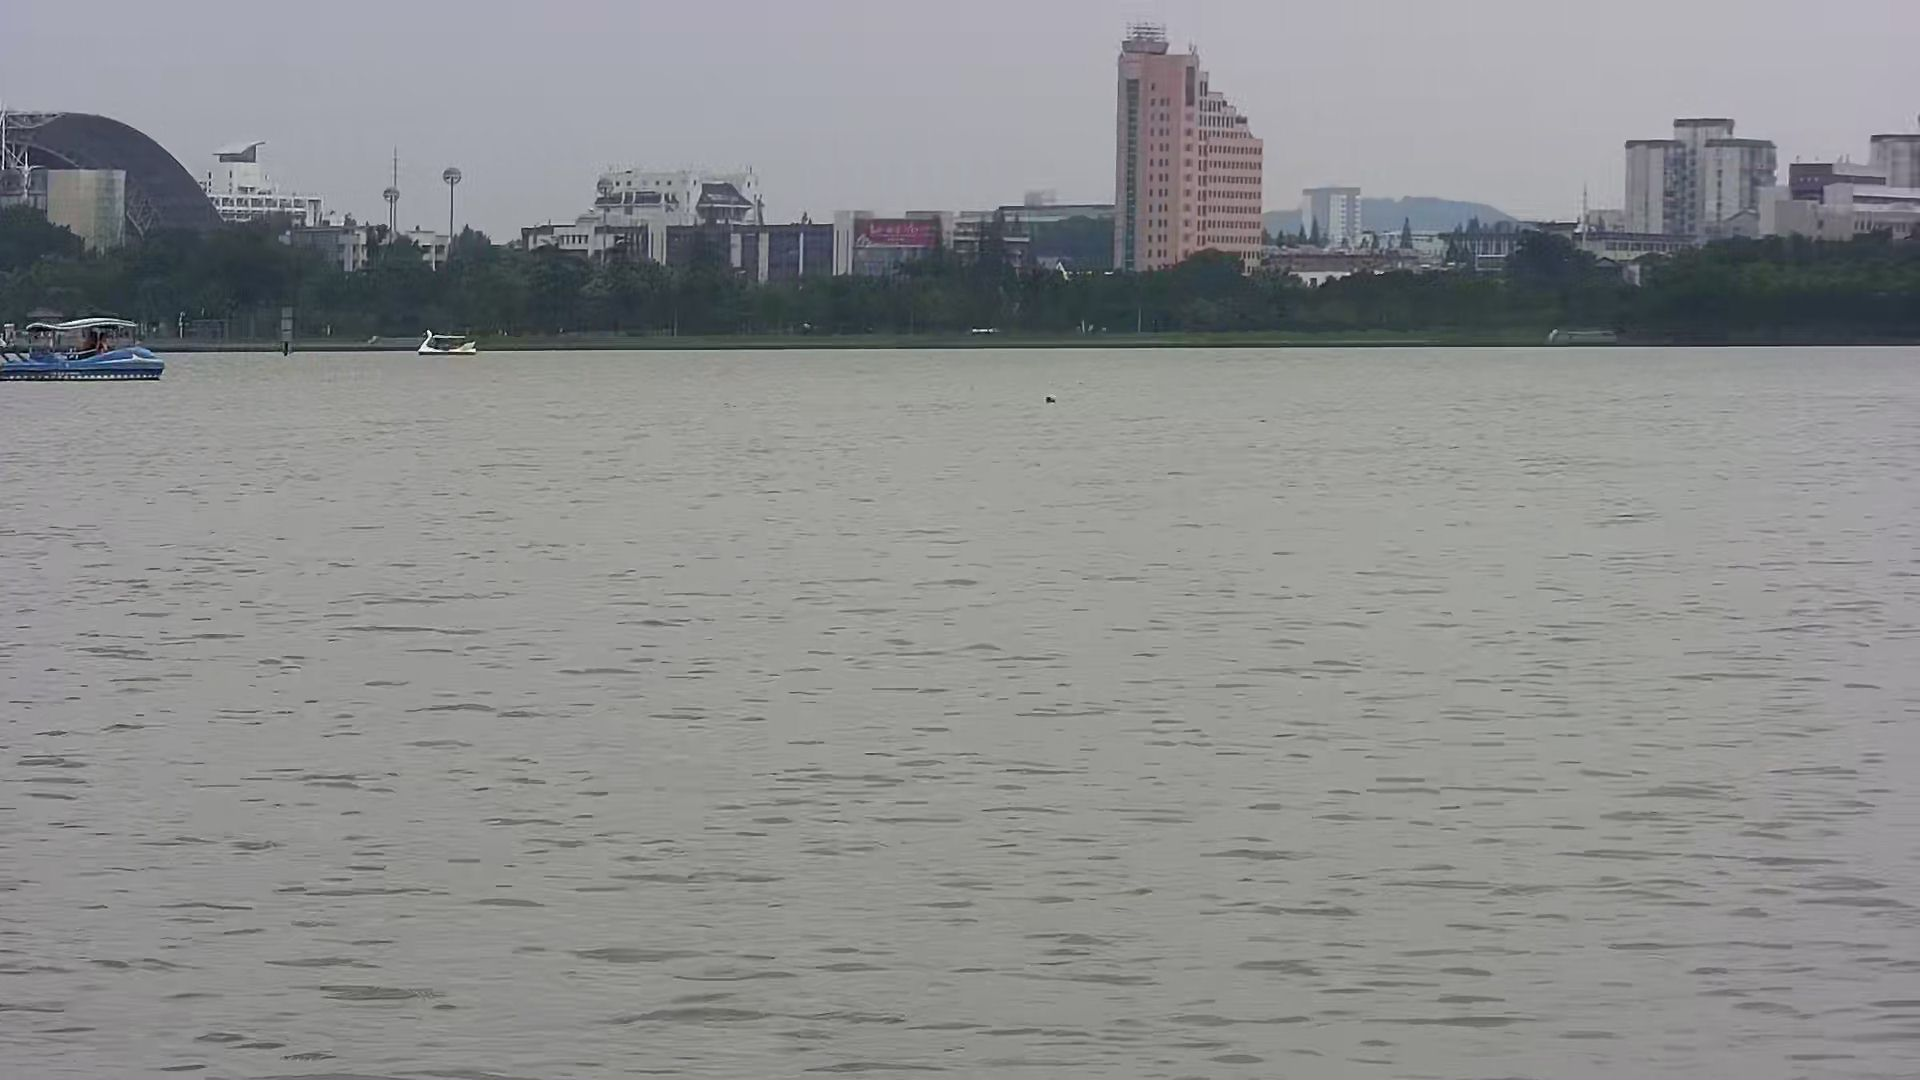boat: (3, 311, 171, 384), (409, 328, 477, 360)
